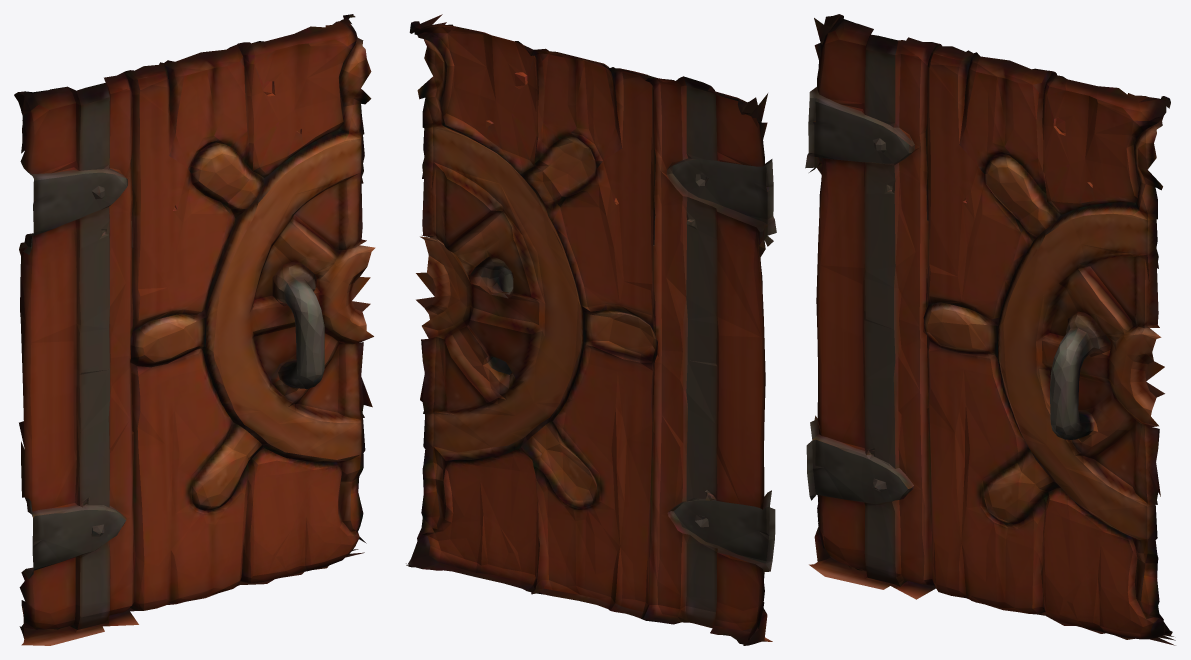
File: door_left.glb
The picture shows the model from 3 angles, left to right: view 1: azimuth 30°, elevation 25°; view 2: azimuth 150°, elevation 25°; view 3: azimuth 330°, elevation 25°; orthographic projection.
Visible parts, largest first — view 1: source_surface_0; view 2: source_surface_0; view 3: source_surface_0.
Part boxes in pixels (left/top/right/bottom): source_surface_0: left=14, top=14, right=375, bottom=645; source_surface_0: left=406, top=14, right=776, bottom=645; source_surface_0: left=805, top=14, right=1175, bottom=645.
Size of the model in its own units: 0.2388 by 0.3512 by 0.0517.
Materials: 1 (1 with a texture image).
